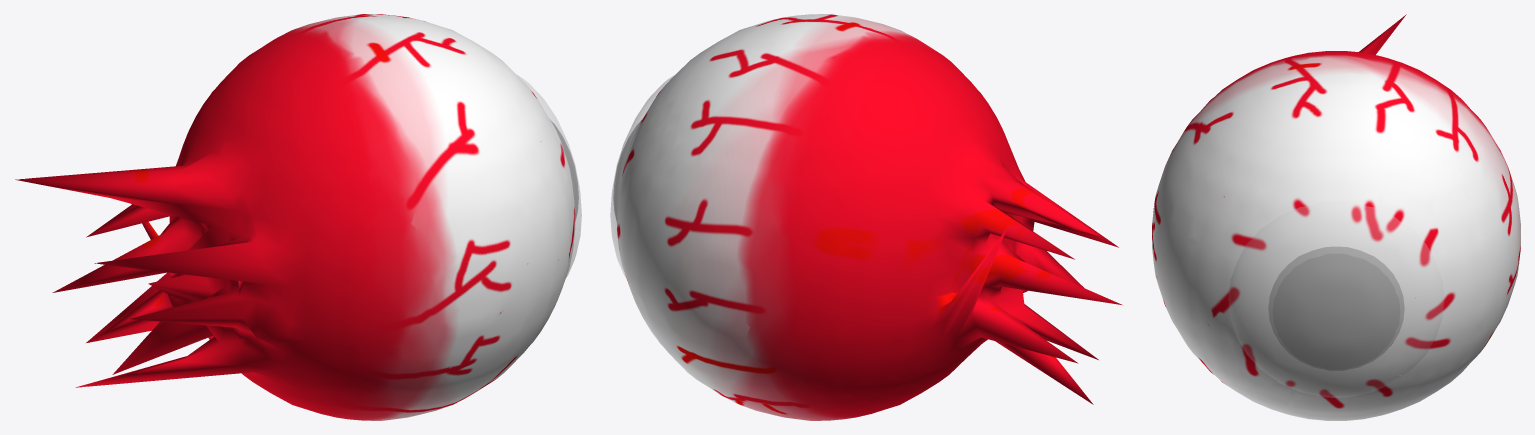
File: Eye.fbx
3 renders of one model, left to right at view 1: azimuth 30°, elevation 25°; view 2: azimuth 150°, elevation 25°; view 3: azimuth 270°, elevation 25°, orthographic. The views are drawn at different scales.
Visible parts, largest first — view 1: EyePhase1; view 2: EyePhase1; view 3: EyePhase1.
Boxes of the visible parts, bbox=[...] form: EyePhase1: bbox=[15, 14, 581, 420]; EyePhase1: bbox=[610, 14, 1122, 420]; EyePhase1: bbox=[1152, 14, 1520, 420].
Size of the model in its own units: 1993 by 1382 by 1378.
3 materials, 1 textured.
